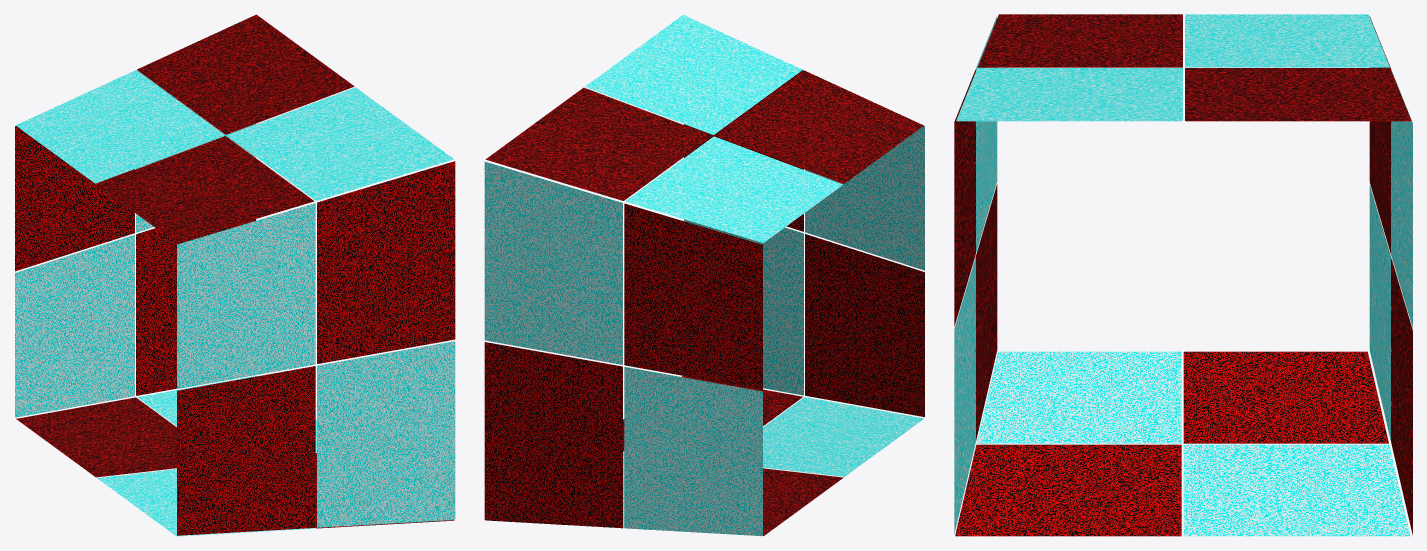
File: SM_Box_01_GDH.fbx
The picture shows the model from 3 angles, left to right: view 1: azimuth 30°, elevation 25°; view 2: azimuth 150°, elevation 25°; view 3: azimuth 270°, elevation 25°; orthographic projection. The views are drawn at different scales.
Parts seen in each view (by area): view 1: SM_Box_01_GDH; view 2: SM_Box_01_GDH; view 3: SM_Box_01_GDH.
Part boxes in pixels (bbox=[...]): SM_Box_01_GDH: bbox=[15, 14, 455, 536]; SM_Box_01_GDH: bbox=[484, 15, 924, 536]; SM_Box_01_GDH: bbox=[954, 14, 1412, 536].
Size of the model in its own units: 37.84 by 50.05 by 50.08.
